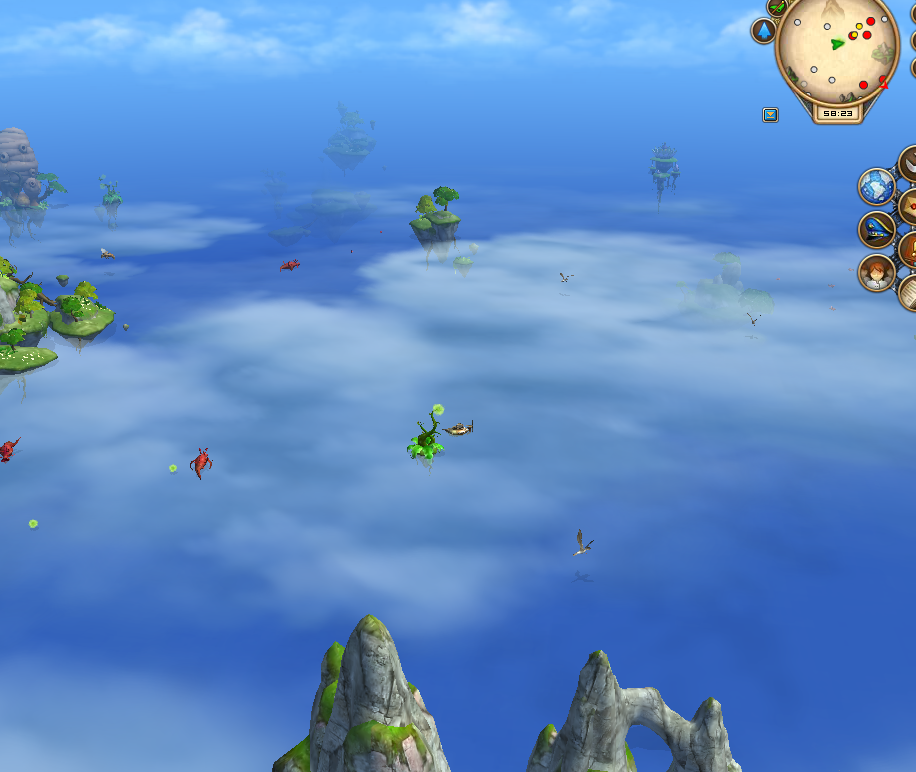dandelion-full: (405, 401, 449, 470), (95, 170, 124, 219)
fluff: (165, 460, 181, 477), (25, 515, 41, 532)
